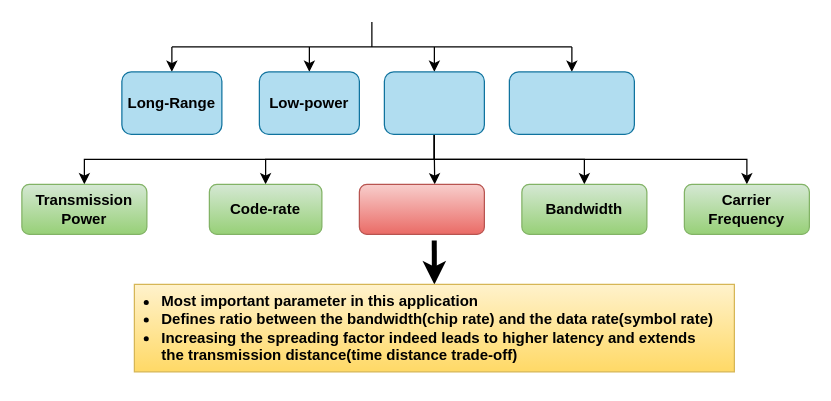
Image size: 831x401. Some labels were removed from this diagram. The centre of each missing label's shape, as x and y in pixels:
Chirp Spread-spectrum Modulation: pixel 571 102
Parameters: pixel 433 102
Spreading factor: pixel 421 208
